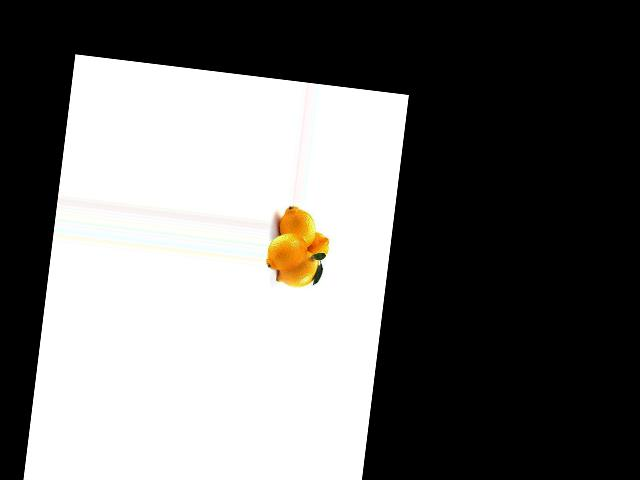lemon: (281, 203, 319, 250)
